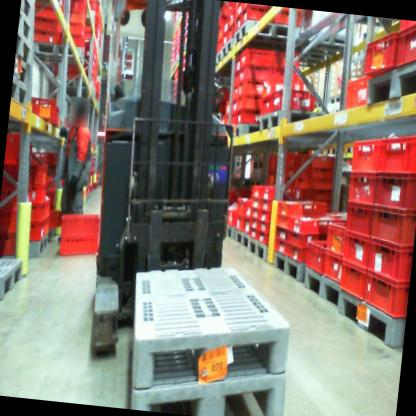pallet: (119, 252, 296, 410), (119, 325, 294, 416), (11, 73, 49, 263), (330, 285, 407, 350), (362, 47, 416, 116), (256, 99, 330, 141), (232, 19, 302, 56), (301, 25, 357, 61), (31, 38, 90, 71), (301, 266, 342, 310), (270, 249, 307, 288), (0, 252, 25, 308), (13, 55, 34, 89), (227, 120, 257, 143), (246, 238, 272, 264), (17, 11, 37, 44), (16, 31, 35, 65), (19, 0, 35, 27), (221, 221, 238, 243), (232, 230, 248, 250), (22, 0, 66, 7)
pallet_truck: (66, 0, 292, 378)
small_load_carrier: (364, 231, 413, 290), (362, 267, 410, 319), (357, 27, 398, 83), (367, 202, 415, 249), (369, 169, 416, 216), (257, 85, 314, 121), (373, 132, 416, 178), (54, 227, 104, 262), (56, 204, 101, 240), (349, 135, 386, 178), (341, 70, 376, 115), (338, 258, 371, 302), (319, 250, 351, 294), (300, 237, 332, 279), (344, 172, 377, 209), (341, 230, 368, 272), (4, 127, 29, 171), (50, 29, 88, 55), (277, 200, 326, 220), (30, 94, 63, 123), (322, 222, 350, 255), (344, 205, 370, 240), (25, 155, 49, 190), (397, 22, 416, 66), (22, 180, 49, 209), (54, 7, 87, 30), (28, 197, 52, 225), (287, 227, 320, 247), (1, 185, 23, 213), (289, 213, 317, 235), (249, 179, 277, 201), (0, 205, 21, 234), (2, 161, 20, 194), (53, 19, 86, 37), (0, 232, 20, 261), (27, 216, 50, 241), (32, 2, 61, 20), (31, 17, 60, 34), (30, 28, 55, 47), (43, 204, 61, 229), (247, 230, 272, 248), (286, 243, 307, 263), (272, 237, 292, 257), (61, 0, 88, 14), (250, 209, 270, 226), (249, 220, 269, 236), (233, 194, 246, 218), (251, 199, 275, 212), (233, 210, 244, 234), (274, 226, 294, 239), (276, 215, 295, 228), (242, 197, 253, 218), (241, 215, 251, 235)
